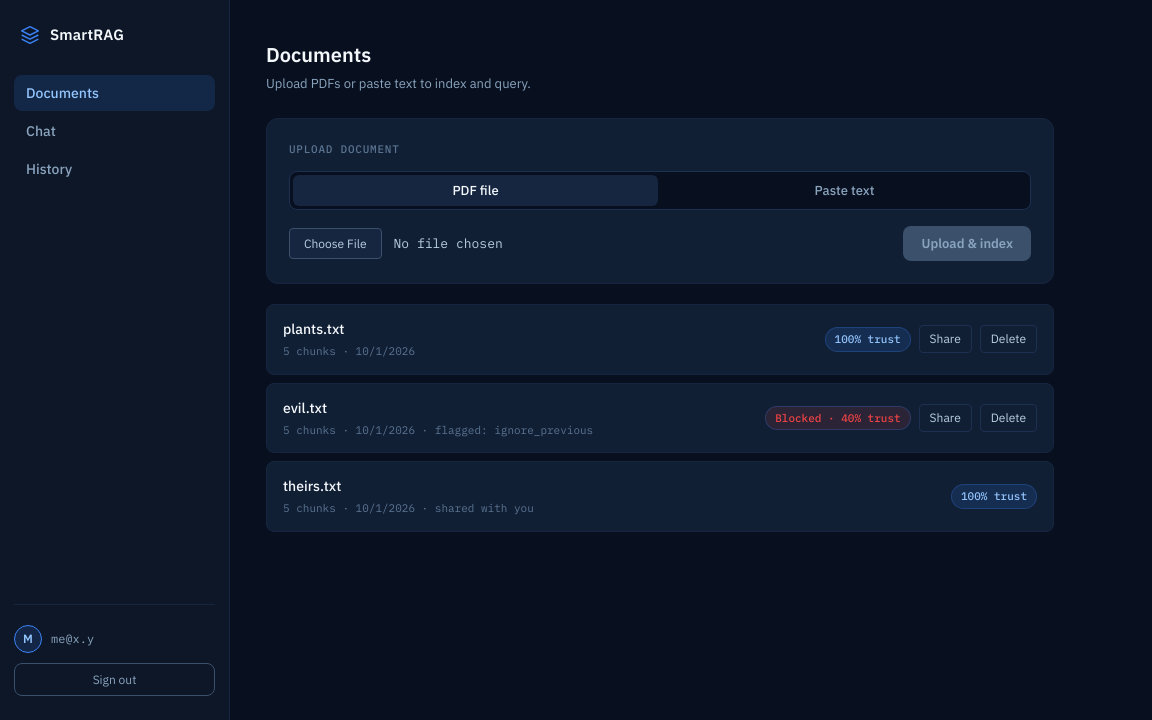
Test: authentication › restores a stored session, and signs out cleanly
This screenshot has width=1152, height=720.
Check: the text "plants.txt" is shown, box left=283, top=320, right=344, bottom=338
What coordinates should you click on to do the following:
click the button "Sign out"
I would click on:
 (114, 680)
Its box is left=14, top=663, right=215, bottom=696.
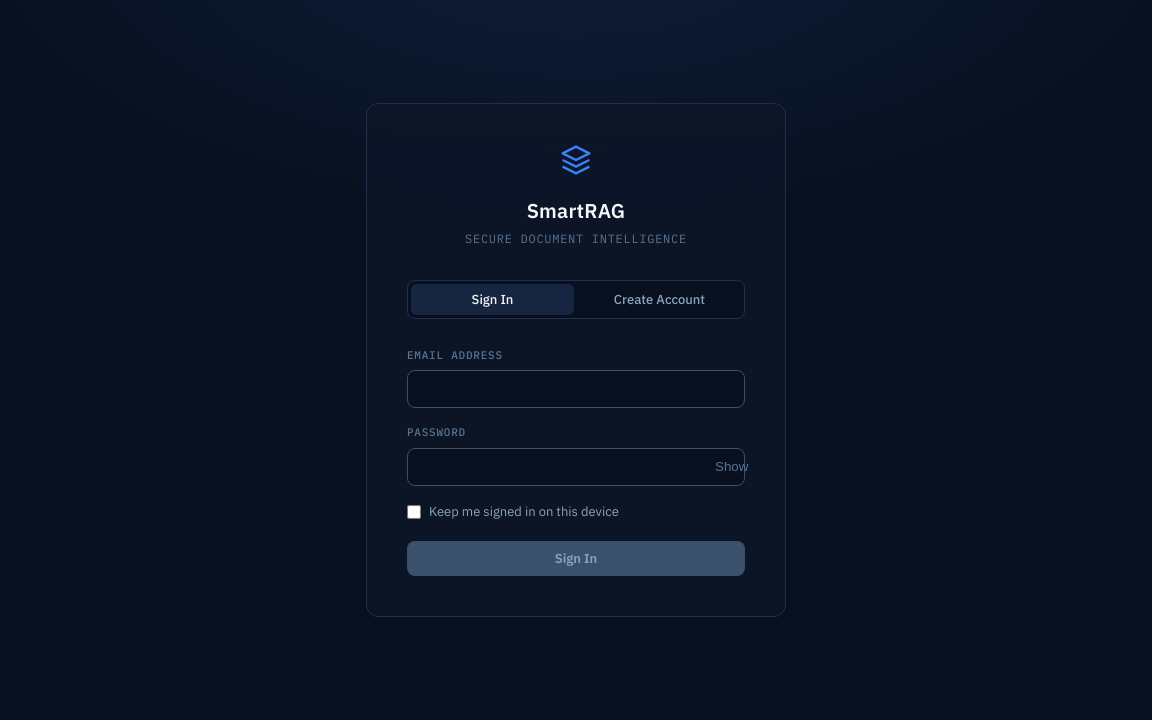
Check: the field labelled "Email address" is shown, box left=407, top=370, right=745, bottom=408
